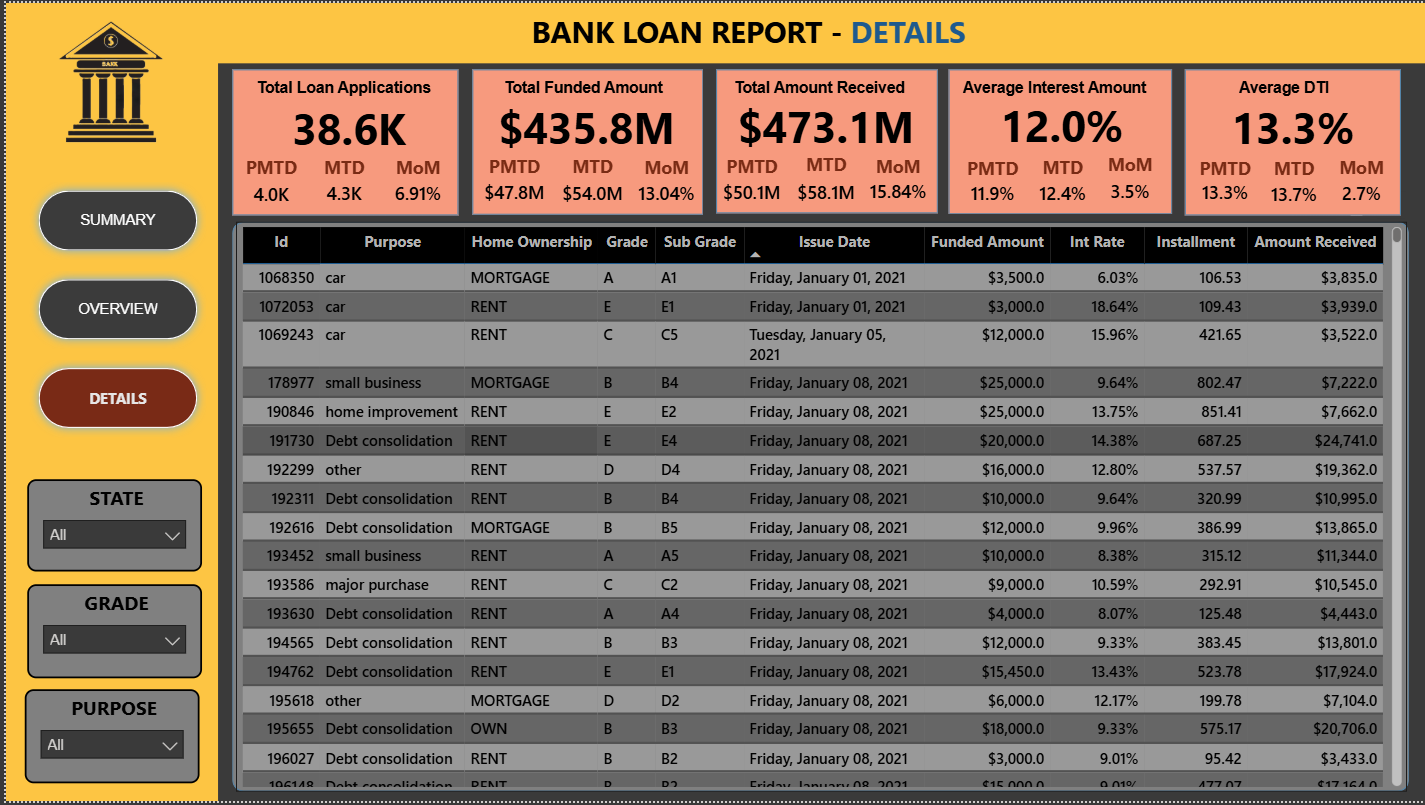

Layout of this report page (visuals, bound fields, positions):
{"tool":"powerbi","page":{"name":"DETAILS","canvas":[1280,720],"ordinal":2},"visuals":[{"type":"shape","box":[0,0,1280,54.7],"z":0},{"type":"shape","box":[0,0,191.6,720.3],"z":1000},{"type":"textbox","box":[469,2.5,447.8,51],"z":2000},{"type":"shape","box":[204,59.7,204,131.9],"z":3000,"group":"g1"},{"type":"shape","box":[849.8,59.7,201.8,130.7],"z":3000,"group":"g6"},{"type":"shape","box":[1062.9,59.7,195,131.9],"z":3000,"group":"g4"},{"type":"shape","box":[420,60,208.3,131.3],"z":3000,"group":"g2"},{"type":"shape","box":[639.9,60,200.1,130],"z":3000,"group":"g3"},{"type":"shape","box":[204,197.8,1061.1,513.8],"z":3000},{"type":"card","fields":{"Values":["financial_loan.Total Loan Applictions"]},"box":[225.1,86,168,54.2],"z":4000,"group":"g1"},{"type":"card","fields":{"Values":["financial_loan.Avg Interest Rate"]},"box":[852.7,86,197.7,49.7],"z":4000,"group":"g6"},{"type":"card","fields":{"Values":["financial_loan.Total Amount Received"]},"box":[640.7,86.8,196.1,49.5],"z":4000,"group":"g3"},{"type":"card","fields":{"Values":["financial_loan.Total Funded Amount"]},"box":[420.8,87.1,204.1,49.9],"z":4000,"group":"g2"},{"type":"card","fields":{"Values":["financial_loan.Avg DTI"]},"box":[1066.8,88.2,188.4,48.7],"z":4000,"group":"g4"},{"type":"slicer","title":"STATE","fields":{"Values":["financial_loan.address_state"]},"box":[18.7,429.2,158,83.3],"z":4000},{"type":"textbox","box":[650.7,62.8,173.2,32.5],"z":5000,"group":"g3"},{"type":"textbox","box":[1106.9,63.1,104.8,32.7],"z":5000,"group":"g4"},{"type":"textbox","box":[220.9,63.4,175.8,30.4],"z":5000,"group":"g1"},{"type":"textbox","box":[443.7,63.4,164.6,30.4],"z":5000,"group":"g2"},{"type":"textbox","box":[857.9,63.4,193.9,28.2],"z":5000,"group":"g6"},{"type":"slicer","title":"GRADE","fields":{"Values":["financial_loan.grade"]},"box":[18.7,523.7,158,84.6],"z":5000},{"type":"card","title":"MTD","fields":{"Values":["financial_loan.MTD Total Amount Received"]},"box":[705.7,134.9,65.8,55.1],"z":6000,"group":"g3"},{"type":"card","title":"MTD","fields":{"Values":["financial_loan.MTD Total Funded Amount"]},"box":[491.2,135.8,75,55.5],"z":6000,"group":"g2"},{"type":"card","title":"MTD","fields":{"Values":["financial_loan.MTD Loan Applications"]},"box":[278.3,136,53.3,52.8],"z":6000,"group":"g1"},{"type":"card","title":"MTD","fields":{"Values":["financial_loan.MTD Avg Interest Rate"]},"box":[920.2,136.1,66.3,53.7],"z":6000,"group":"g6"},{"type":"card","title":"MTD","fields":{"Values":["financial_loan.MTD Avg DTI"]},"box":[1134.2,137.6,55,52.7],"z":6000,"group":"g4"},{"type":"slicer","title":"PURPOSE","fields":{"Values":["financial_loan.purpose"]},"box":[17.4,618.2,158,84.6],"z":6000},{"type":"tableEx","fields":{"Values":["financial_loan.id","financial_loan.purpose","financial_loan.home_ownership","financial_loan.grade","financial_loan.sub_grade","financial_loan.issue_date","financial_loan.Total Funded Amount","Sum(financial_loan.int_rate)","Sum(financial_loan.installment)","financial_loan.Total Amount Received"]},"box":[207.7,197.8,1056.1,513.8],"z":7000},{"type":"image","box":[8.7,2.5,171.7,138.1],"z":8000},{"type":"card","title":"MoM","fields":{"Values":["financial_loan.MoM Avg Interest Rate"]},"box":[980.6,134.4,66,53.5],"z":8000,"group":"g6"},{"type":"card","title":"MoM","fields":{"Values":["financial_loan.MoM Total Amount Received"]},"box":[770,135.4,67.1,52.6],"z":8000,"group":"g3"},{"type":"card","title":"MoM","fields":{"Values":["financial_loan.MoM Loan Applications"]},"box":[338.4,136,66.9,52.8],"z":8000,"group":"g1"},{"type":"card","title":"MoM","fields":{"Values":["financial_loan.MoM Avg DTI"]},"box":[1189.8,136.3,64.1,53],"z":8000,"group":"g4"},{"type":"card","title":"MoM","fields":{"Values":["financial_loan.MoM Total Funded Amount"]},"box":[561.2,137.1,68.7,52.8],"z":8000,"group":"g2"},{"type":"card","title":"PMTD","fields":{"Values":["financial_loan.PMTD Total Amount Received"]},"box":[638.6,135.5,67.1,53.2],"z":9000,"group":"g3"},{"type":"card","title":"PMTD","fields":{"Values":["financial_loan.PMTD Total Funded Amount"]},"box":[420,135.8,76.2,54.1],"z":9000,"group":"g2"},{"type":"card","title":"PMTD","fields":{"Values":["financial_loan.PMTD Loan Applications"]},"box":[204.6,136,68.3,54.2],"z":9000,"group":"g1"},{"type":"card","title":"PMTD","fields":{"Values":["financial_loan.PMTD Avg DTI"]},"box":[1066.7,137.7,66.1,49],"z":9000,"group":"g4"},{"type":"pageNavigator","box":[21.1,161.7,159.2,231.4],"z":9000},{"type":"group","id":"g1","title":"Group 1","box":[204,59.7,204,131.9],"z":10000},{"type":"group","id":"g2","title":"Group 1","box":[420,60,210,131.3],"z":11000},{"type":"group","id":"g3","title":"Group 1","box":[638.6,60,201.4,130],"z":12000},{"type":"group","id":"g4","title":"Group 1","box":[1062.9,59.7,195,131.9],"z":13000},{"type":"group","id":"g5","title":"Group 5","box":[849.8,59.7,201.9,130.7],"z":14000},{"type":"group","id":"g6","title":"Group 1","box":[849.8,59.7,201.9,130.7],"z":20000,"group":"g5"},{"type":"card","title":"PMTD","fields":{"Values":["financial_loan.PMTD Avg Interest Rate"]},"box":[856,137.1,66,48.6],"z":21001,"group":"g5"}]}

Visuals, with their boxes in screenshot pixels (x1, y1, x2, y2), scaled from the page's 1280x720 canvas onto the 1425x805 screenshot:
shape: x1=0 y1=0 x2=1424 y2=61
shape: x1=0 y1=0 x2=213 y2=804
textbox: x1=522 y1=3 x2=1021 y2=60
shape: x1=227 y1=67 x2=454 y2=214
shape: x1=946 y1=67 x2=1171 y2=213
shape: x1=1183 y1=67 x2=1400 y2=214
shape: x1=468 y1=67 x2=699 y2=214
shape: x1=712 y1=67 x2=935 y2=212
shape: x1=227 y1=221 x2=1408 y2=796
card - financial_loan.Total Loan Applictions: x1=251 y1=96 x2=438 y2=157
card - financial_loan.Avg Interest Rate: x1=949 y1=96 x2=1169 y2=152
card - financial_loan.Total Amount Received: x1=713 y1=97 x2=932 y2=152
card - financial_loan.Total Funded Amount: x1=468 y1=97 x2=696 y2=153
card - financial_loan.Avg DTI: x1=1188 y1=99 x2=1397 y2=153
"STATE" slicer: x1=21 y1=480 x2=197 y2=573
textbox: x1=724 y1=70 x2=917 y2=107
textbox: x1=1232 y1=71 x2=1349 y2=107
textbox: x1=246 y1=71 x2=442 y2=105
textbox: x1=494 y1=71 x2=677 y2=105
textbox: x1=955 y1=71 x2=1171 y2=102
"GRADE" slicer: x1=21 y1=586 x2=197 y2=680
"MTD" card: x1=786 y1=151 x2=859 y2=212
"MTD" card: x1=547 y1=152 x2=630 y2=214
"MTD" card: x1=310 y1=152 x2=369 y2=211
"MTD" card: x1=1024 y1=152 x2=1098 y2=212
"MTD" card: x1=1263 y1=154 x2=1324 y2=213
"PURPOSE" slicer: x1=19 y1=691 x2=195 y2=786
tableEx - financial_loan.id x financial_loan.purpose: x1=231 y1=221 x2=1407 y2=796
image: x1=10 y1=3 x2=201 y2=157
"MoM" card: x1=1092 y1=150 x2=1165 y2=210
"MoM" card: x1=857 y1=151 x2=932 y2=210
"MoM" card: x1=377 y1=152 x2=451 y2=211
"MoM" card: x1=1325 y1=152 x2=1396 y2=212
"MoM" card: x1=625 y1=153 x2=701 y2=212
"PMTD" card: x1=711 y1=151 x2=786 y2=211
"PMTD" card: x1=468 y1=152 x2=552 y2=212
"PMTD" card: x1=228 y1=152 x2=304 y2=213
"PMTD" card: x1=1188 y1=154 x2=1261 y2=209
pageNavigator: x1=23 y1=181 x2=201 y2=440
"Group 1" group: x1=227 y1=67 x2=454 y2=214
"Group 1" group: x1=468 y1=67 x2=701 y2=214
"Group 1" group: x1=711 y1=67 x2=935 y2=212
"Group 1" group: x1=1183 y1=67 x2=1400 y2=214
"Group 5" group: x1=946 y1=67 x2=1171 y2=213
"Group 1" group: x1=946 y1=67 x2=1171 y2=213
"PMTD" card: x1=953 y1=153 x2=1026 y2=208
